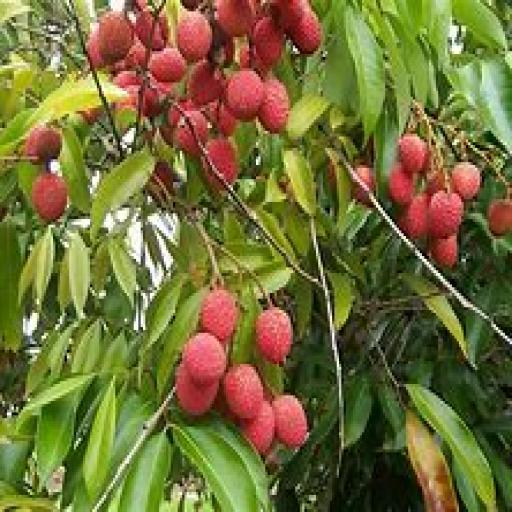lychee: (182, 333, 225, 386), (175, 365, 218, 415), (253, 308, 291, 364), (200, 288, 238, 344), (223, 365, 261, 420), (223, 69, 261, 122), (96, 12, 132, 65), (272, 396, 308, 449), (202, 137, 238, 190), (175, 12, 211, 62), (258, 77, 289, 133), (32, 171, 65, 221), (242, 402, 273, 455), (428, 191, 462, 238), (189, 60, 222, 108), (251, 18, 282, 68), (288, 9, 321, 54), (133, 9, 167, 51), (216, 0, 255, 36), (175, 111, 206, 156), (25, 126, 61, 162), (398, 194, 427, 238), (147, 49, 185, 82), (398, 134, 427, 173), (272, 0, 308, 31), (387, 163, 414, 204), (452, 163, 481, 201), (207, 103, 236, 136), (350, 165, 374, 204), (237, 46, 268, 76), (486, 200, 511, 236), (428, 237, 457, 267), (149, 163, 174, 196), (85, 29, 102, 68), (124, 40, 146, 68), (424, 171, 446, 196), (113, 72, 141, 88), (179, 0, 199, 11)
